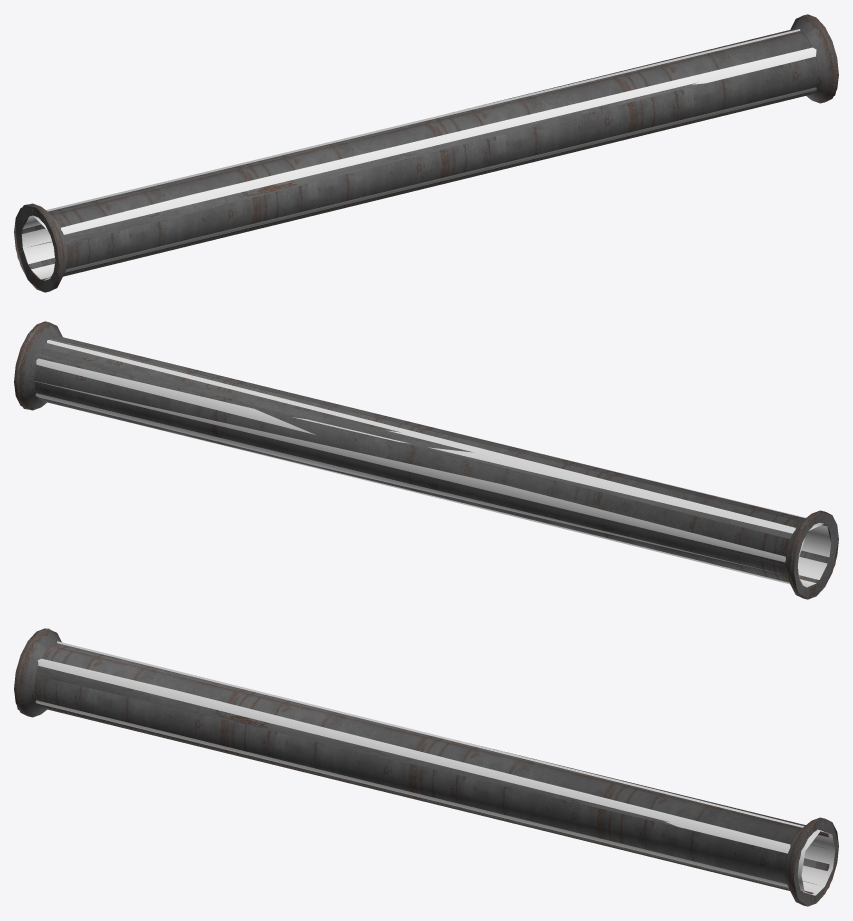
File: s_steel_factory_pipe_d60.dae
The picture shows the model from 3 angles, top to bottom: view 1: azimuth 30°, elevation 25°; view 2: azimuth 150°, elevation 25°; view 3: azimuth 330°, elevation 25°; orthographic projection.
Parts seen in each view (by area): view 1: Colmesh_s_steel_factory_pipe_d60-1, s_steel_factory_pipe_d60_a50, s_steel_factory_pipe_d60_a100, s_steel_factory_pipe_d60_a400; view 2: s_steel_factory_pipe_d60_a400, Colmesh_s_steel_factory_pipe_d60-1, s_steel_factory_pipe_d60_a50, s_steel_factory_pipe_d60_a100; view 3: Colmesh_s_steel_factory_pipe_d60-1, s_steel_factory_pipe_d60_a50, s_steel_factory_pipe_d60_a100, s_steel_factory_pipe_d60_a400.
Boxes of the visible parts, left/top/right/bottom form: Colmesh_s_steel_factory_pipe_d60-1: left=14, top=14, right=838, bottom=292; s_steel_factory_pipe_d60_a50: left=21, top=29, right=816, bottom=280; s_steel_factory_pipe_d60_a100: left=14, top=28, right=838, bottom=292; s_steel_factory_pipe_d60_a400: left=14, top=14, right=838, bottom=292; s_steel_factory_pipe_d60_a400: left=14, top=321, right=837, bottom=598; Colmesh_s_steel_factory_pipe_d60-1: left=14, top=321, right=838, bottom=599; s_steel_factory_pipe_d60_a50: left=34, top=340, right=831, bottom=587; s_steel_factory_pipe_d60_a100: left=14, top=336, right=838, bottom=599; Colmesh_s_steel_factory_pipe_d60-1: left=14, top=628, right=838, bottom=906; s_steel_factory_pipe_d60_a50: left=35, top=641, right=835, bottom=895; s_steel_factory_pipe_d60_a100: left=17, top=628, right=838, bottom=906; s_steel_factory_pipe_d60_a400: left=14, top=628, right=837, bottom=905.
Size of the model in its own units: 8.02 by 0.8 by 0.8.
